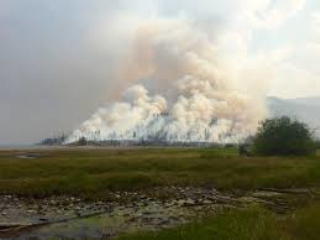smoke: (66, 56, 264, 150)
